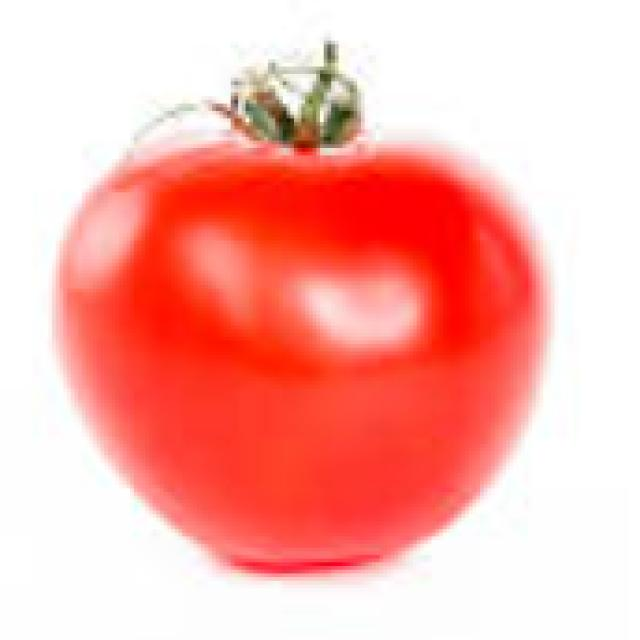Tomato: (44, 61, 598, 567)
